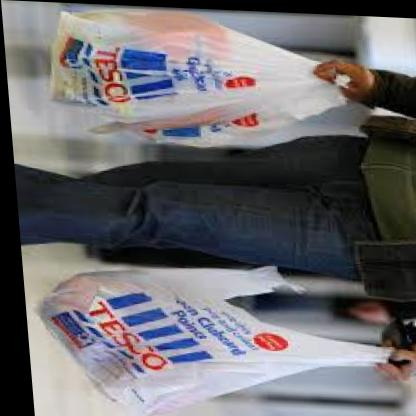Plastic: (31, 244, 416, 416), (22, 0, 368, 156)
